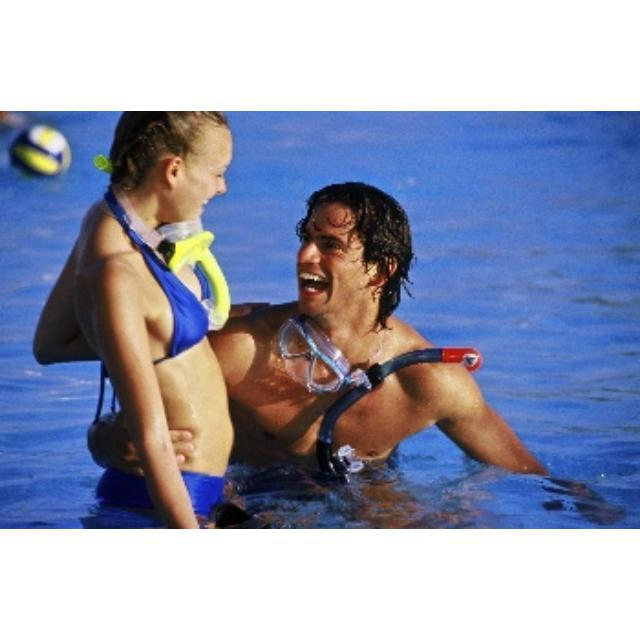human: (219, 179, 539, 493), (34, 113, 231, 526)
